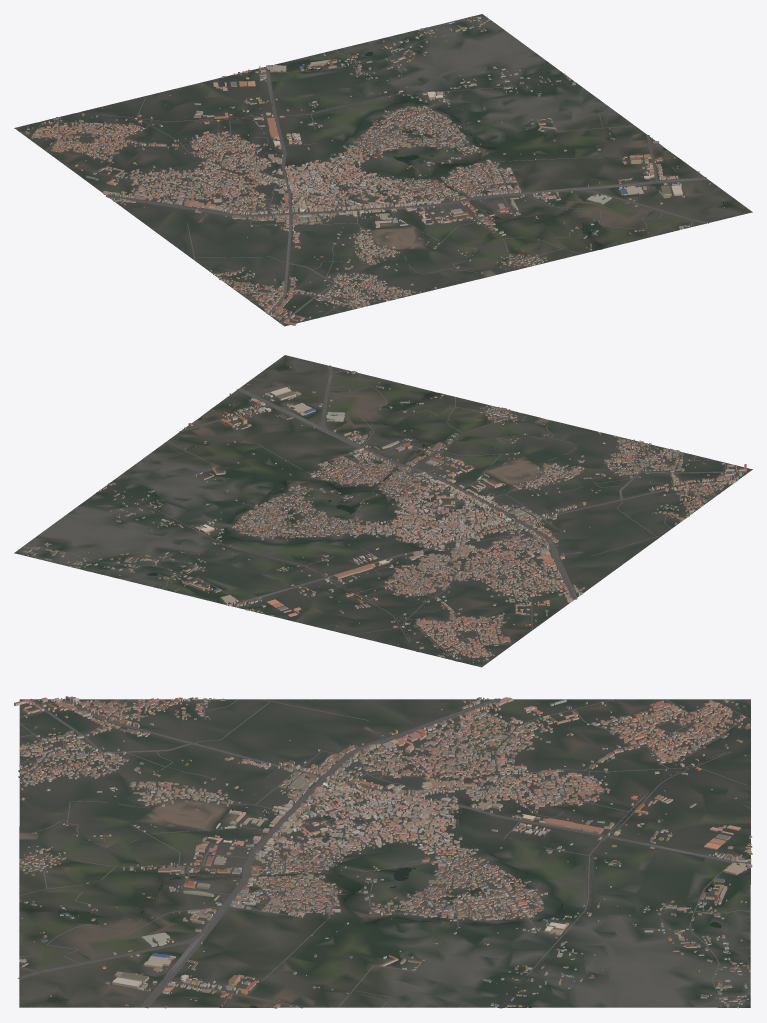
3 renders of one model, top to bottom at view 1: azimuth 30°, elevation 25°; view 2: azimuth 150°, elevation 25°; view 3: azimuth 270°, elevation 25°, orthographic. The views are drawn at different scales.
Parts seen in each view (by area): view 1: ground, buildings, roads, water; view 2: ground, buildings, roads, water; view 3: ground, buildings, roads, water.
Part boxes in pixels (<box>): ground: <box>14,14,752,326</box>; buildings: <box>25,16,724,325</box>; roads: <box>19,21,709,323</box>; water: <box>56,51,732,301</box>; ground: <box>14,355,752,667</box>; buildings: <box>18,367,746,663</box>; roads: <box>25,365,748,663</box>; water: <box>109,364,719,654</box>; ground: <box>19,699,750,1008</box>; buildings: <box>14,696,752,1008</box>; roads: <box>18,698,750,1008</box>; water: <box>19,699,739,1007</box>.
Size of the model in its own units: 2815 by 29.22 by 2833.
